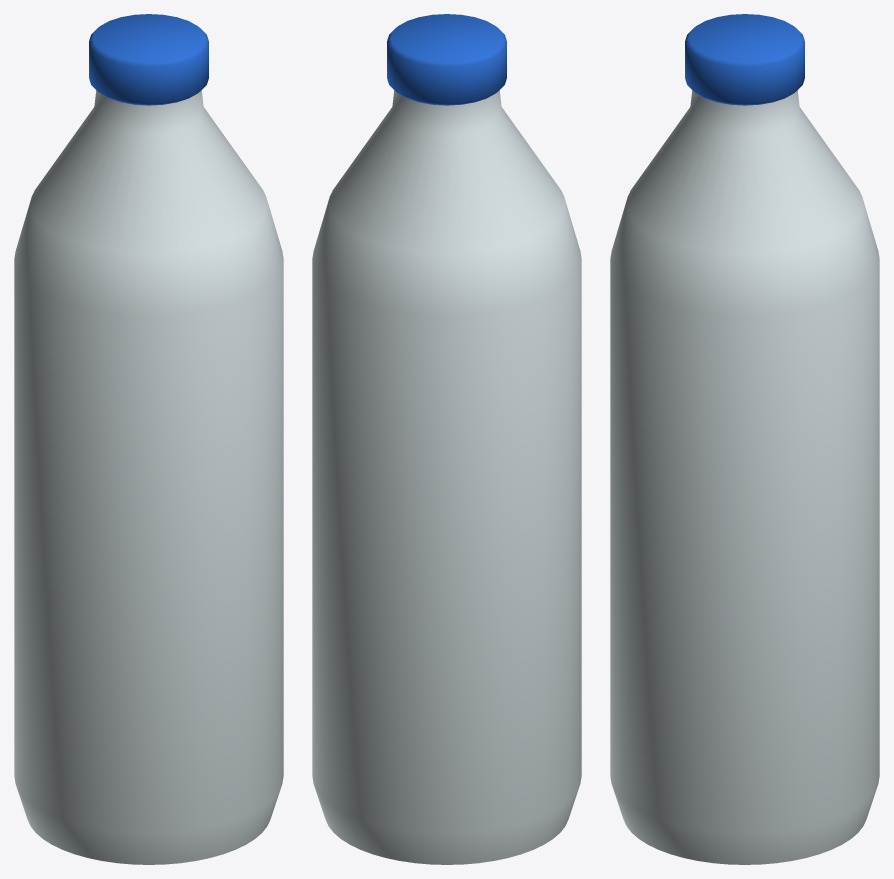
File: agua.glb
The picture shows the model from 3 angles, left to right: view 1: azimuth 30°, elevation 25°; view 2: azimuth 150°, elevation 25°; view 3: azimuth 270°, elevation 25°; orthographic projection.
Visible parts, largest first — view 1: agua; view 2: agua; view 3: agua.
Part boxes in pixels (x1=…): agua: x1=14, y1=14, x2=283, y2=864; agua: x1=312, y1=14, x2=581, y2=864; agua: x1=610, y1=14, x2=879, y2=864.
Size of the model in its own units: 0.066 by 0.2098 by 0.066.
